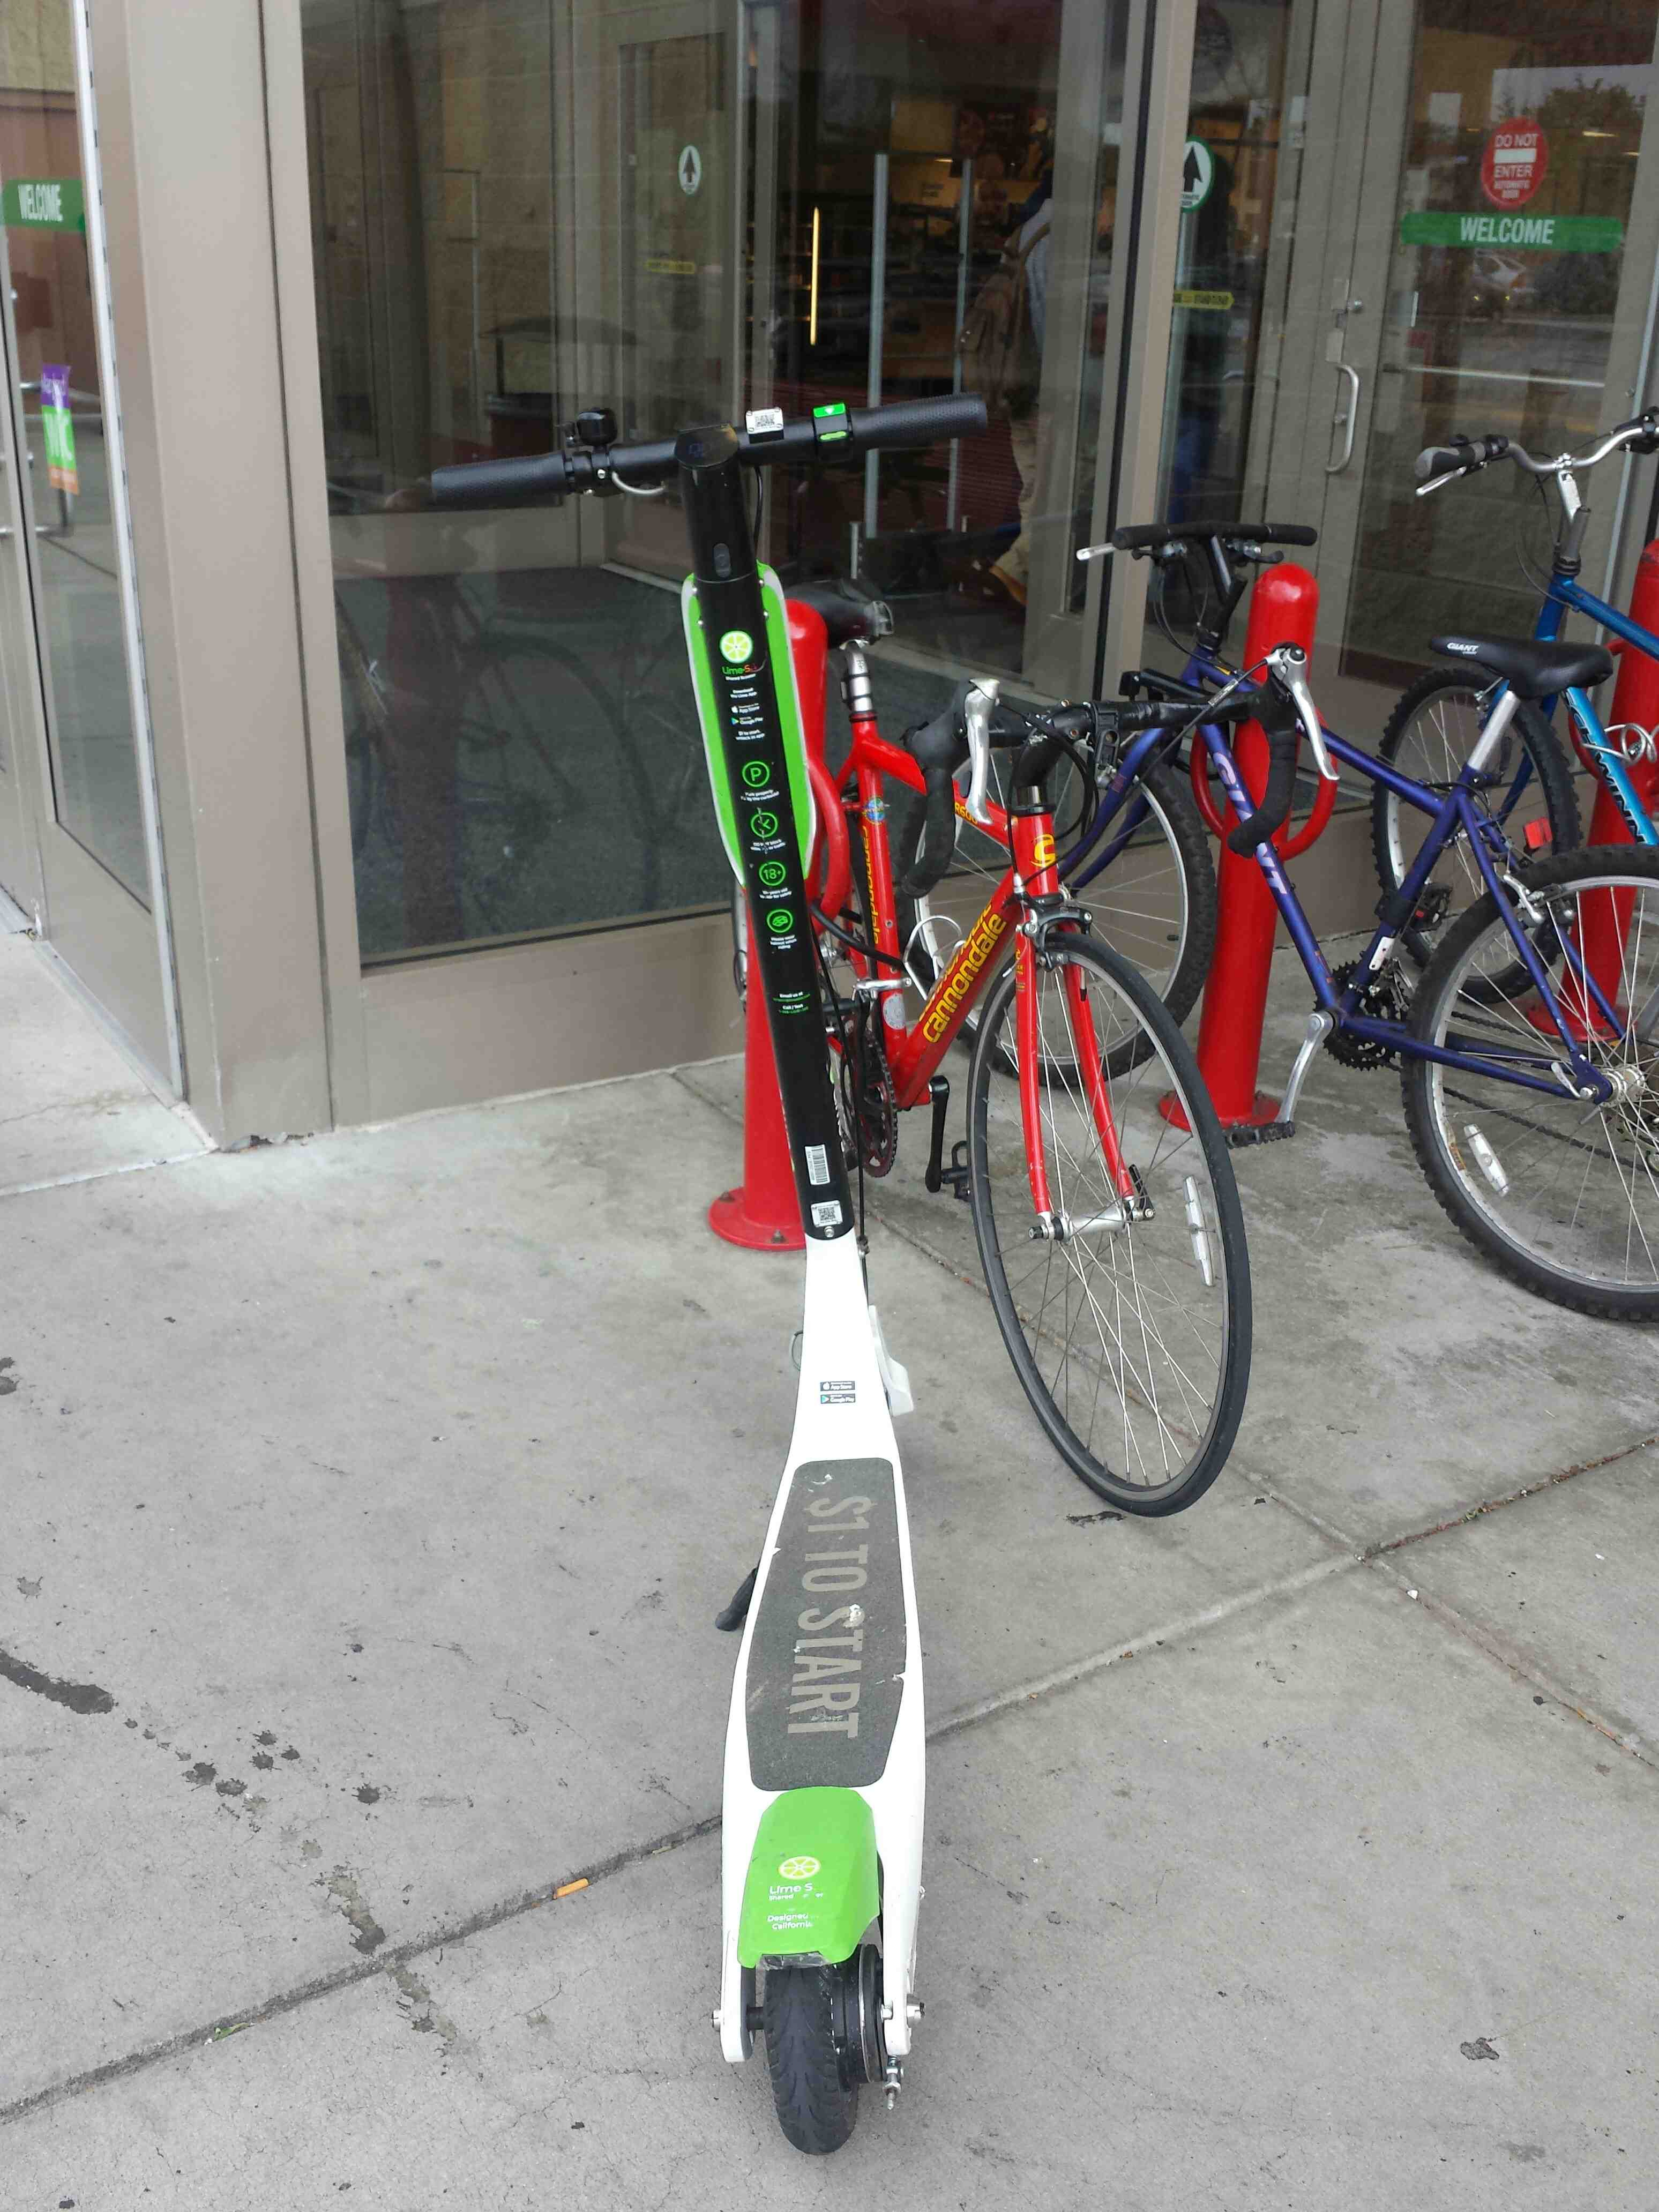scooter: (404, 310, 1089, 2155)
